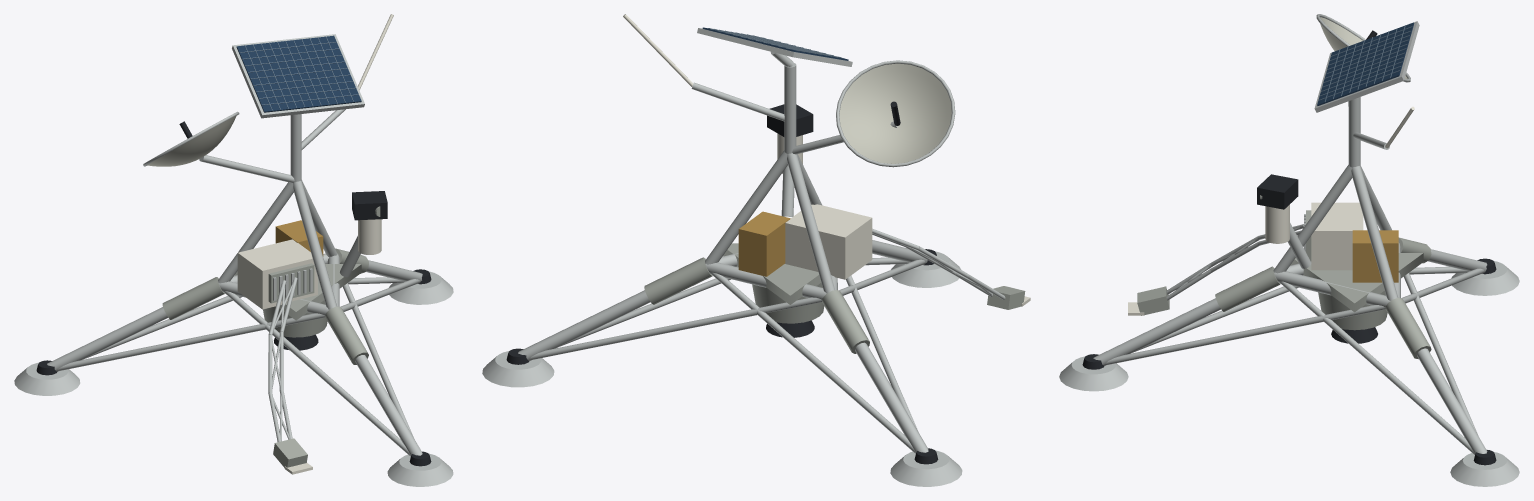
File: surveyor3.glb
The picture shows the model from 3 angles, left to right: view 1: azimuth 30°, elevation 25°; view 2: azimuth 150°, elevation 25°; view 3: azimuth 270°, elevation 25°; orthographic projection. The views are drawn at different scales.
Visible parts, largest first — view 1: Solar cells, Landing brace (×5), Landing footpad (×3), Landing strut (×3), Tripod mast frame (×3), White equipment compartment, Shock absorber (×2), Parabolic reflector, Solar array frame, Open triangular platform, Camera scanning mirror housing, Radiator cover (+6 smaller); view 2: Parabolic reflector, Landing brace (×5), Landing footpad (×3), White equipment compartment, Landing strut (×3), Tripod mast frame (×2), Shock absorber (×2), Insulated equipment compartment, Open triangular platform, Reflector rim, Central propulsion housing, Upper mast (+5 smaller); view 3: Landing brace (×5), Landing footpad (×3), Solar cells, Landing strut (×3), Tripod mast frame (×2), White equipment compartment, Shock absorber (×2), Open triangular platform, Insulated equipment compartment, Central propulsion housing, Camera scanning mirror housing, Solar array frame (+5 smaller).
Boxes of the visible parts, x1,y1,x2,y2 form: Solar cells: [236, 35, 361, 112]; Landing brace (×5): [57, 279, 419, 456]; Landing footpad (×3): [14, 271, 453, 486]; Landing strut (×3): [47, 260, 422, 456]; Tripod mast frame (×3): [218, 180, 337, 309]; White equipment compartment: [237, 239, 317, 309]; Shock absorber (×2): [162, 277, 368, 364]; Parabolic reflector: [147, 115, 236, 166]; Solar array frame: [232, 34, 364, 118]; Open triangular platform: [234, 264, 361, 320]; Camera scanning mirror housing: [352, 191, 387, 220]; Radiator cover: [268, 263, 314, 303]; Parabolic reflector: [839, 63, 951, 163]; Landing brace (×5): [529, 259, 925, 453]; Landing footpad (×3): [482, 251, 962, 486]; White equipment compartment: [785, 204, 872, 279]; Landing strut (×3): [518, 240, 928, 453]; Tripod mast frame (×2): [705, 150, 834, 293]; Shock absorber (×2): [644, 257, 869, 353]; Insulated equipment compartment: [738, 211, 790, 276]; Open triangular platform: [723, 243, 821, 304]; Reflector rim: [836, 60, 955, 167]; Central propulsion housing: [752, 283, 824, 323]; Upper mast: [784, 63, 796, 153]; Landing brace (×5): [1104, 268, 1484, 454]; Landing footpad (×3): [1059, 261, 1519, 486]; Solar cells: [1317, 22, 1414, 105]; Landing strut (×3): [1093, 249, 1487, 454]; Tripod mast frame (×2): [1273, 164, 1398, 300]; White equipment compartment: [1311, 202, 1363, 270]; Shock absorber (×2): [1215, 266, 1431, 359]; Open triangular platform: [1290, 253, 1423, 312]; Insulated equipment compartment: [1352, 230, 1398, 282]; Central propulsion housing: [1318, 291, 1387, 330]; Camera scanning mirror housing: [1257, 174, 1298, 209]; Solar array frame: [1314, 21, 1419, 112].
Size of the model in its own units: 4.2 by 3.01 by 3.71.
